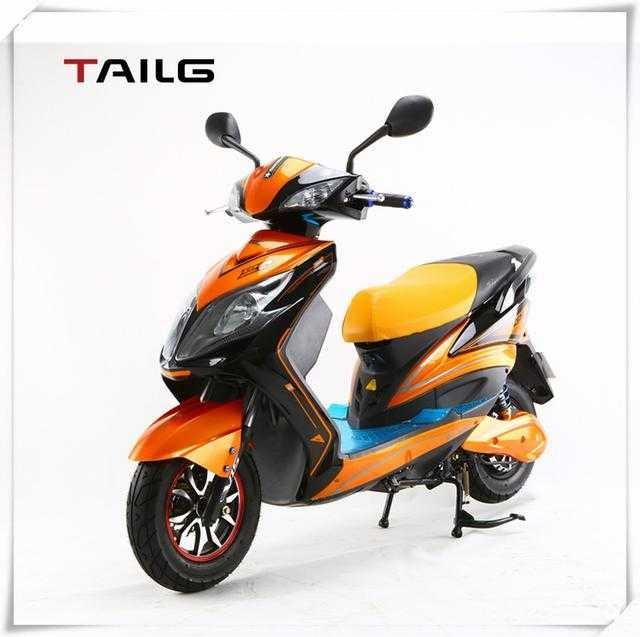motorbike: (123, 90, 551, 599)
